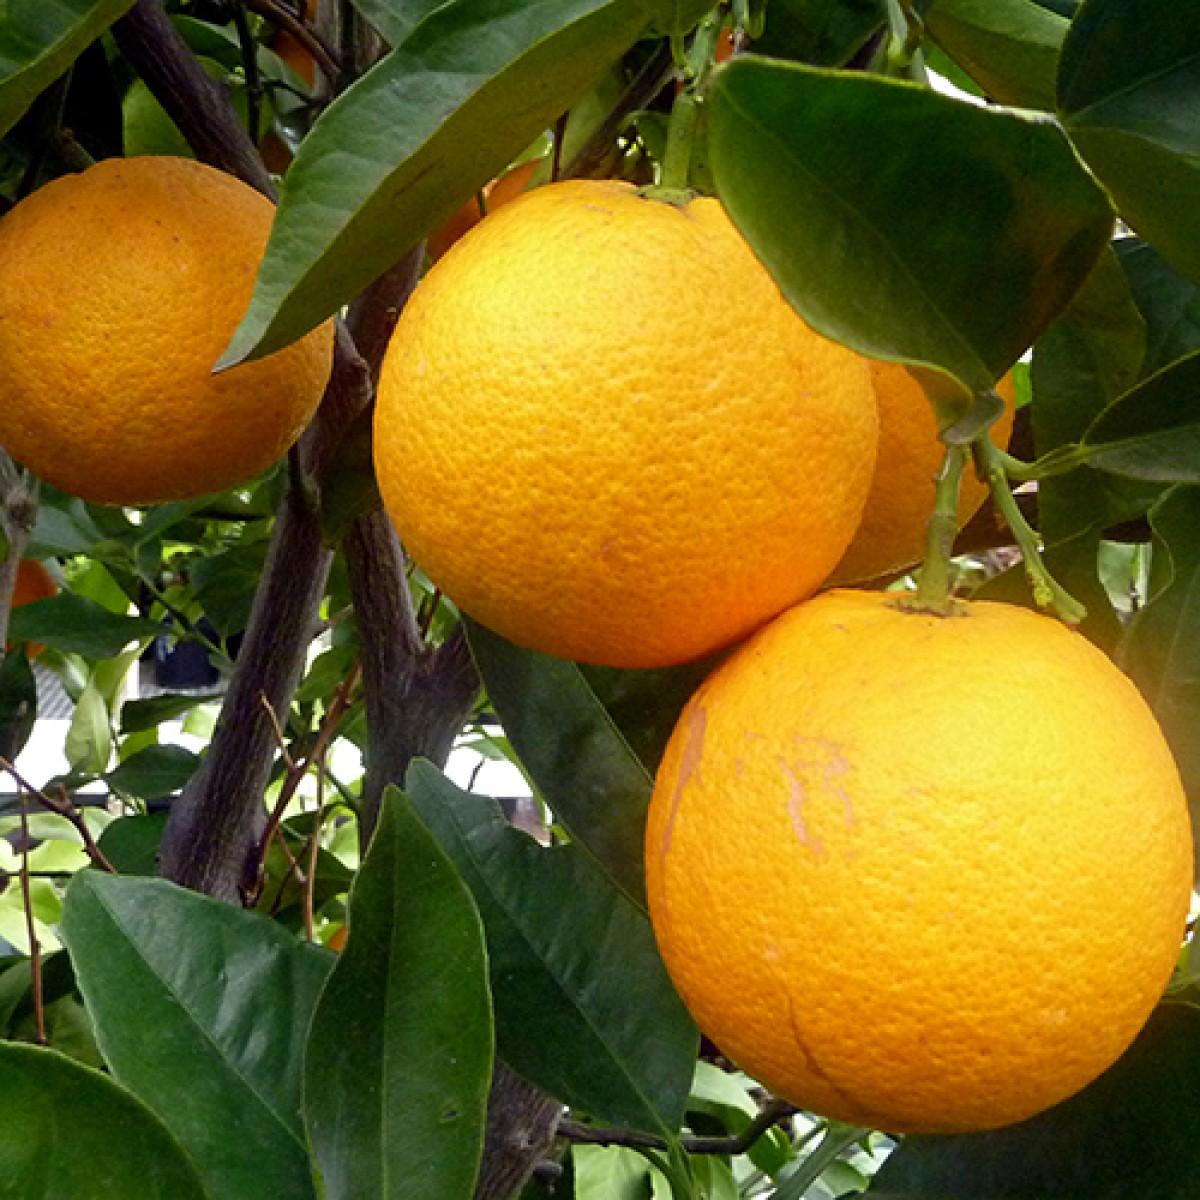Healthy Citrus: (711, 55, 1119, 368), (399, 665, 647, 1109), (70, 865, 323, 1200), (314, 801, 498, 1200), (0, 1041, 213, 1195)
